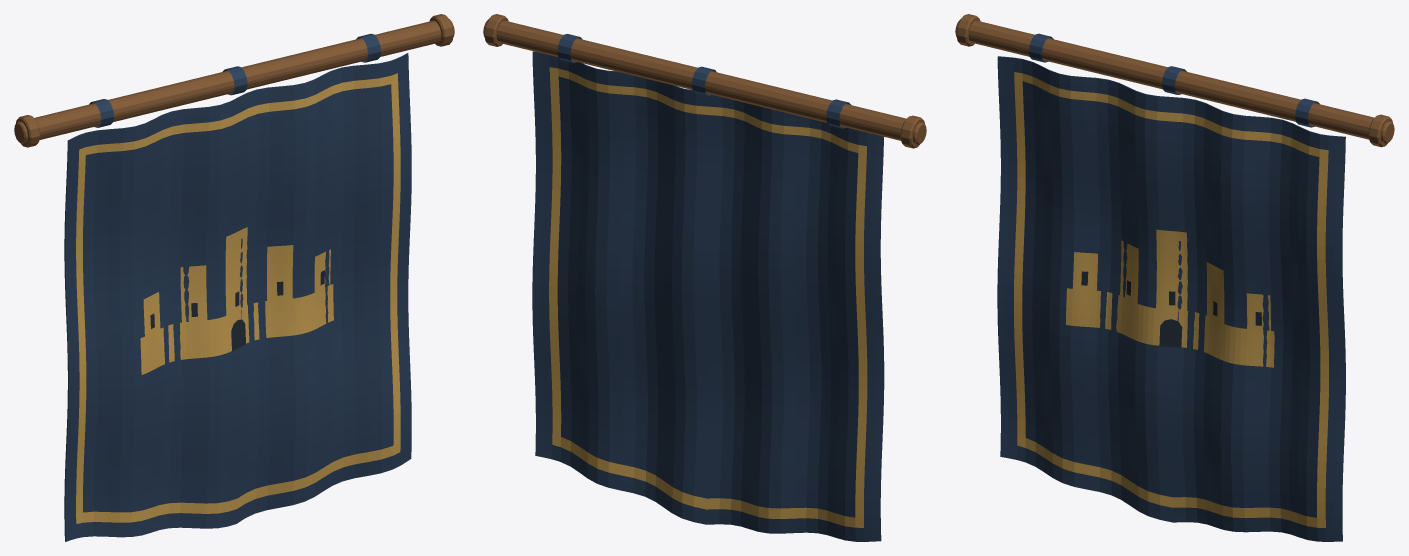
The model's file is vestibule-banner.glb.
3 renders of one model, left to right at view 1: azimuth 30°, elevation 25°; view 2: azimuth 150°, elevation 25°; view 3: azimuth 330°, elevation 25°, orthographic.
Visible parts, largest first — view 1: Complete vestibule banner; view 2: Complete vestibule banner; view 3: Complete vestibule banner.
Boxes of the visible parts, x1=… form: Complete vestibule banner: x1=14, y1=14, x2=454, y2=541; Complete vestibule banner: x1=483, y1=14, x2=926, y2=541; Complete vestibule banner: x1=955, y1=14, x2=1394, y2=541.
Bounding box in the file's own units: 1 × 1.01 × 0.066.
